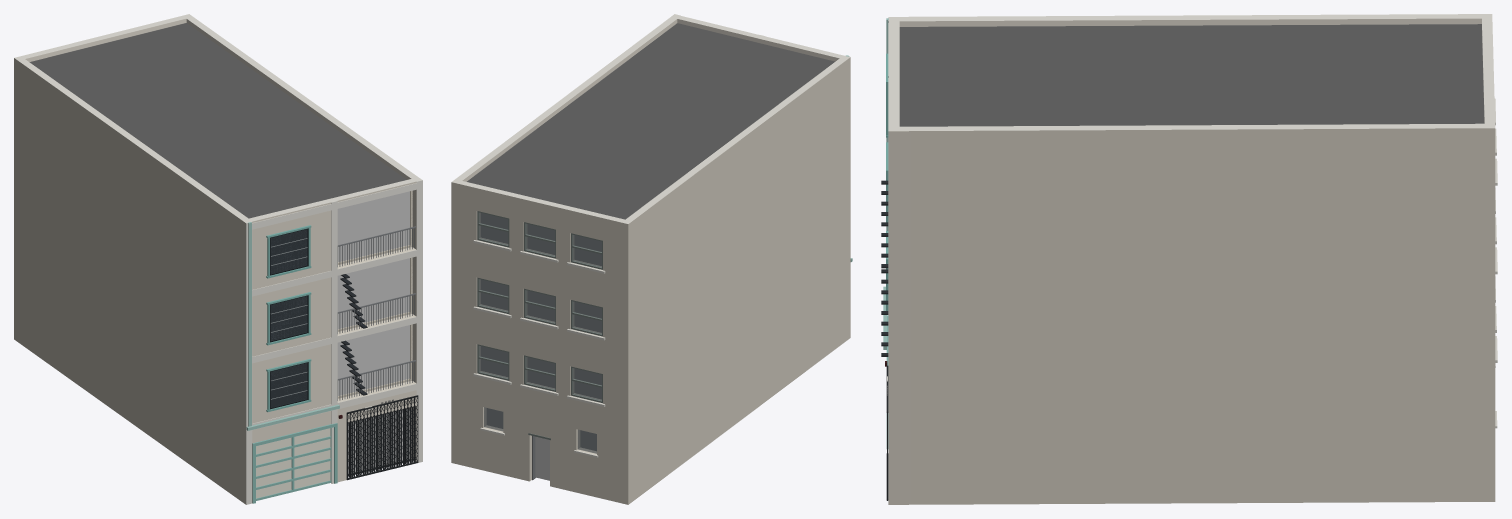
Rendered from exterior.glb.
The picture shows the model from 3 angles, left to right: view 1: azimuth 30°, elevation 25°; view 2: azimuth 150°, elevation 25°; view 3: azimuth 270°, elevation 25°; orthographic projection. The views are drawn at different scales.
Parts seen in each view (by area): view 1: shell, roof, shadow-proxy, storefront, relief-3, hand-ornament, lattice-gates-3; view 2: shell, roof, glazing, shadow-proxy, frames, trim; view 3: shell, roof, hand-ornament.
Boxes of the visible parts, bbox=[...] form: shell: bbox=[14, 14, 421, 504]; roof: bbox=[29, 23, 406, 218]; shadow-proxy: bbox=[337, 191, 409, 473]; storefront: bbox=[252, 191, 415, 503]; relief-3: bbox=[246, 180, 422, 504]; hand-ornament: bbox=[246, 225, 393, 430]; lattice-gates-3: bbox=[346, 395, 418, 480]; shell: bbox=[451, 14, 850, 504]; roof: bbox=[467, 23, 834, 219]; glazing: bbox=[479, 213, 601, 453]; shadow-proxy: bbox=[481, 213, 601, 480]; frames: bbox=[477, 211, 602, 403]; trim: bbox=[473, 240, 605, 457]; shell: bbox=[889, 14, 1495, 504]; roof: bbox=[899, 24, 1484, 126]; hand-ornament: bbox=[881, 53, 888, 395].
Bounding box in the file's own units: 8.94 × 13.27 × 19.84.
